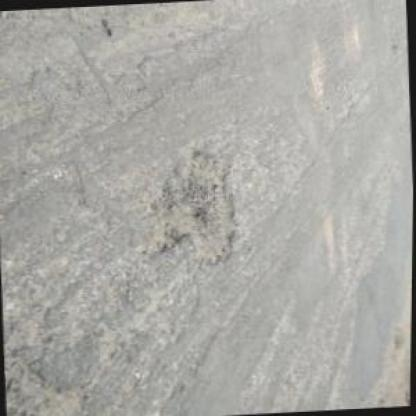pothole: (139, 147, 244, 272)
